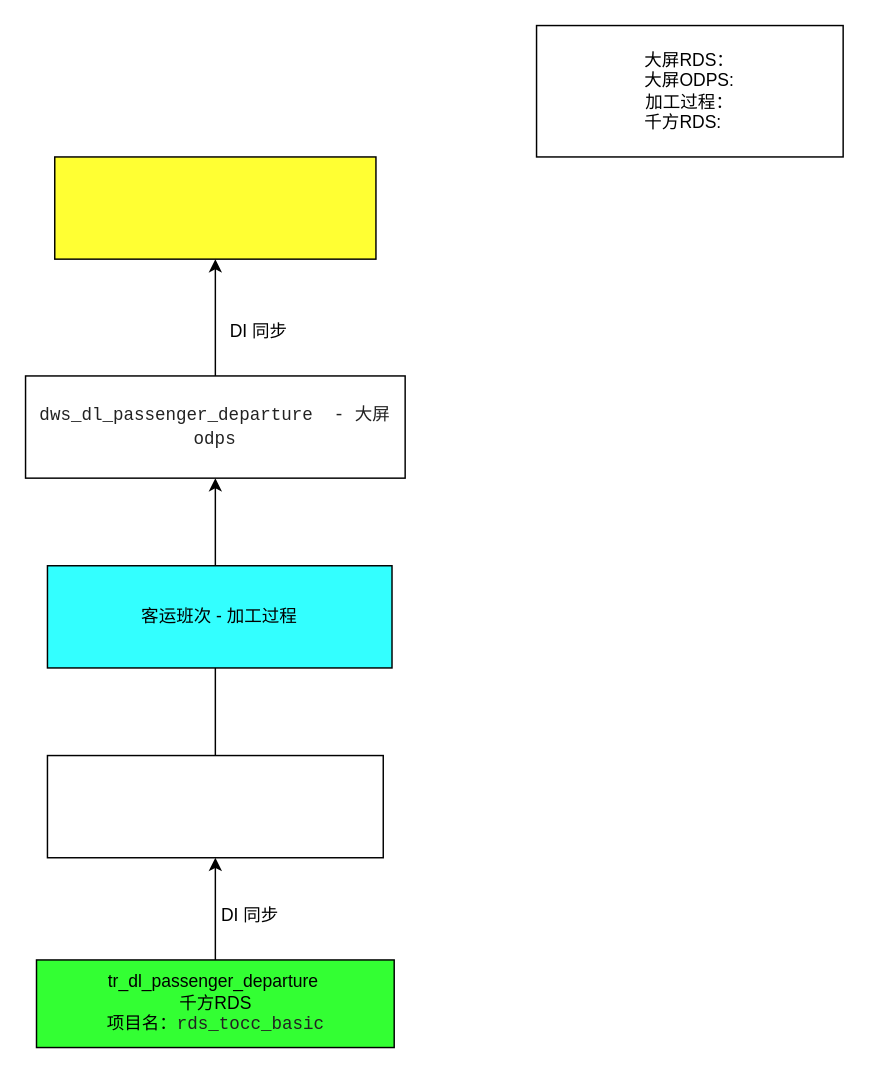
Image size: 869x1073. Some labels were removed from this diagram. The centre of each missing label's shape, as x and y in pixels:
"dm_dl_passenger_departure - 大屏RDS 客运站班次信息" belongs at (214,207).
"tr_dl_passenger_departure - 大屏odps" belongs at (214,806).
